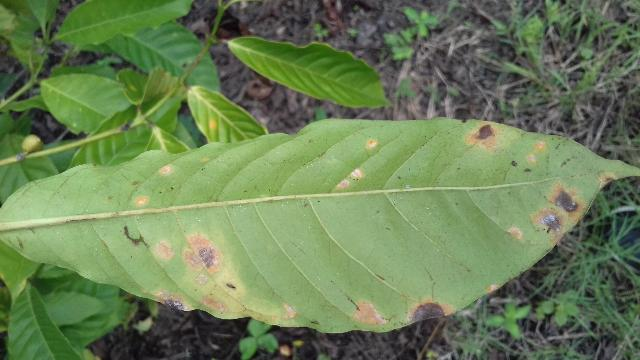rust_level_2: (0, 116, 640, 337)
